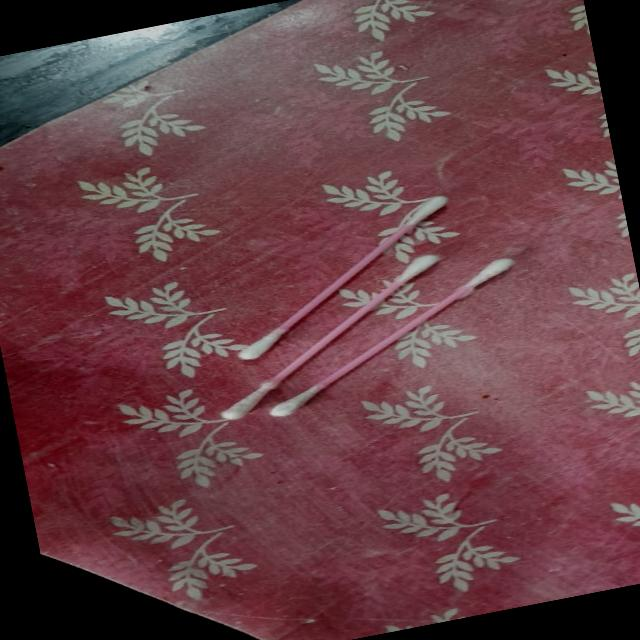Earbud - Non Recyclable: (0, 0, 640, 640), (165, 168, 556, 438)
